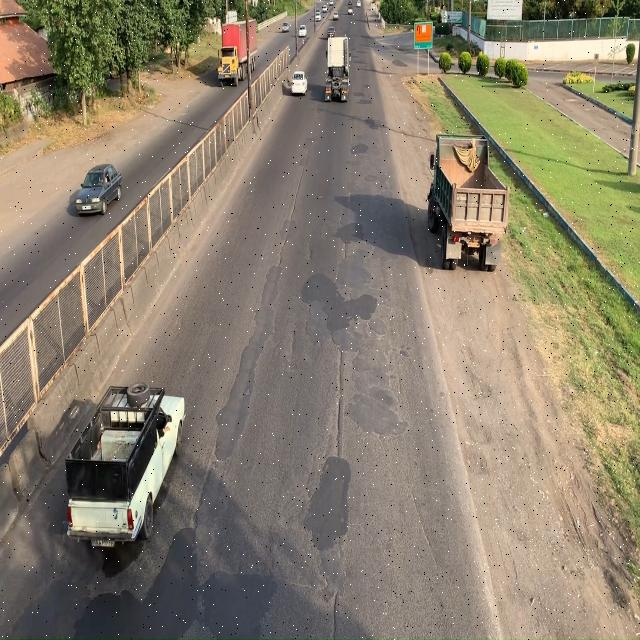Truck: (428, 132, 510, 279), (216, 18, 261, 85), (324, 36, 351, 112)
cars: (66, 380, 187, 556), (76, 162, 124, 228), (288, 63, 310, 104)
